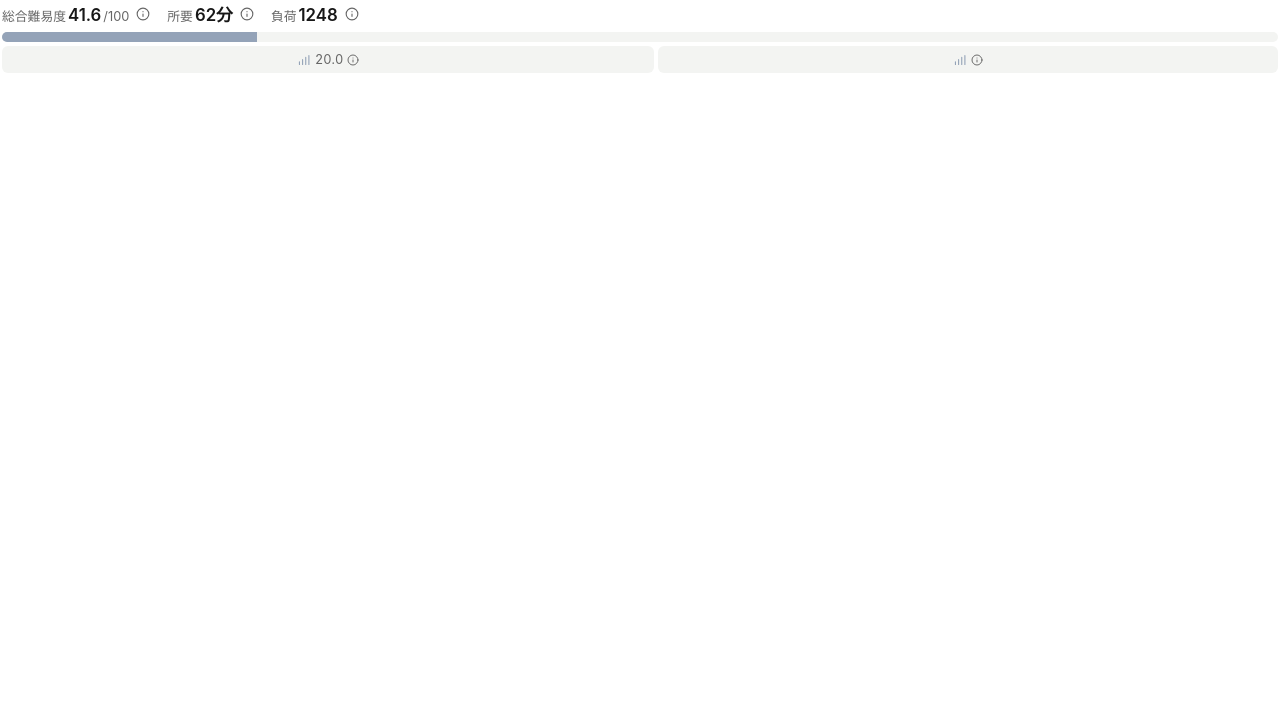
Scenario: RouteAxisProfile › 軸別難易度の値が来ない軸の詳細は「データなし」で、生値も内訳も出さない
Click the button named "軸Bの詳細を表示".
click(968, 60)  # box [658,46,1278,73]
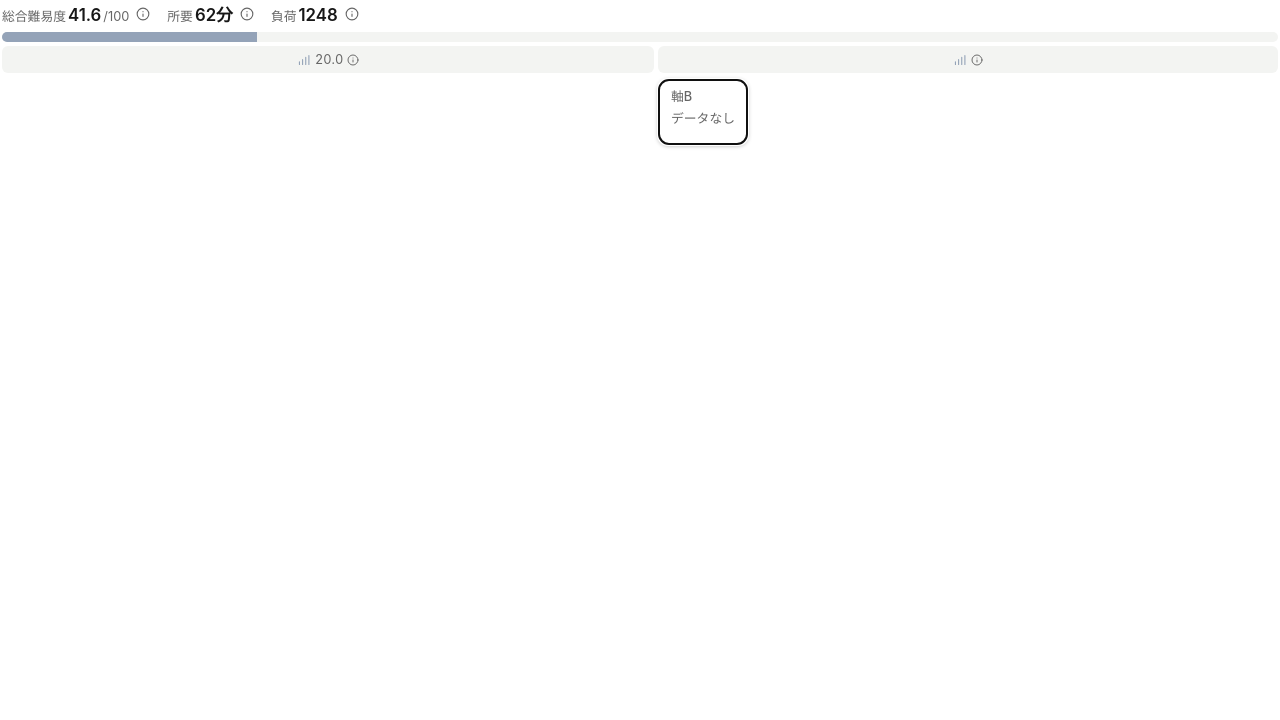
Now the dialog shows "データなし", box [671,111,735,126]
